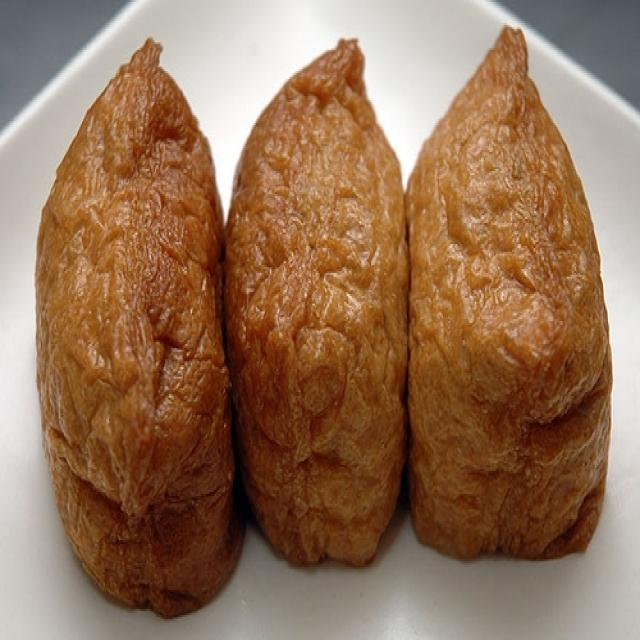寿司卷物: (13, 23, 627, 629)
